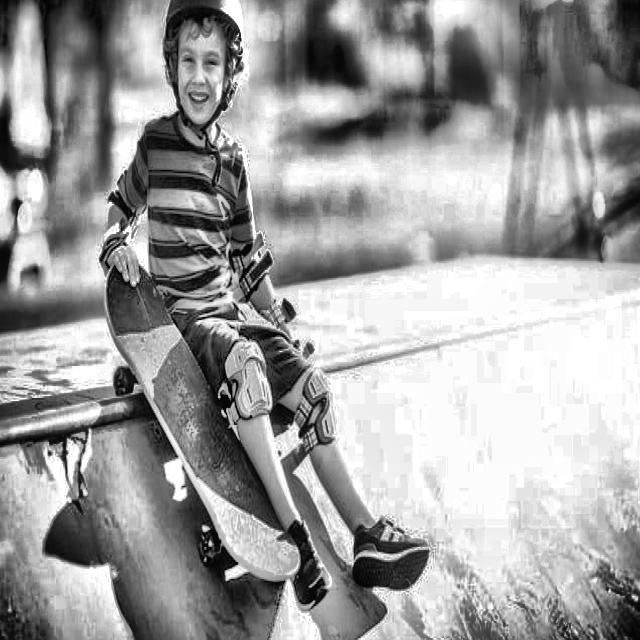Helmet: (158, 0, 248, 152)
